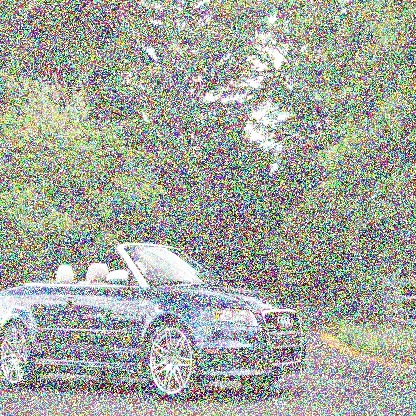Vehicle: (0, 242, 309, 402)
